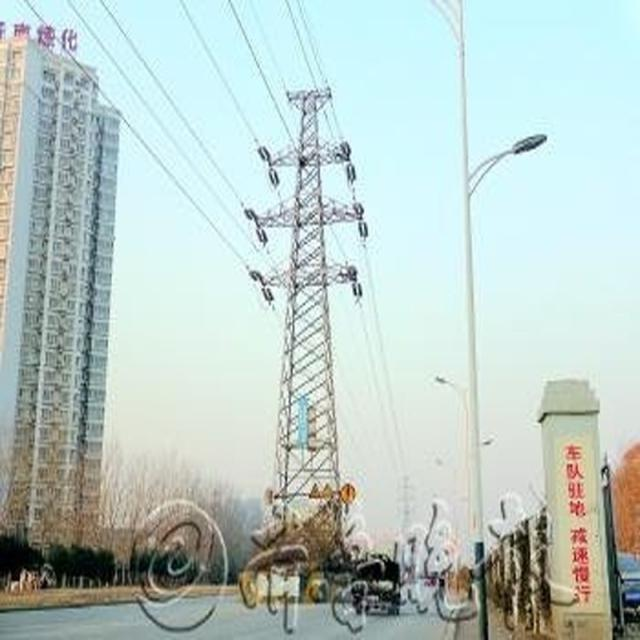non-critical vegetation: (250, 75, 366, 489)
